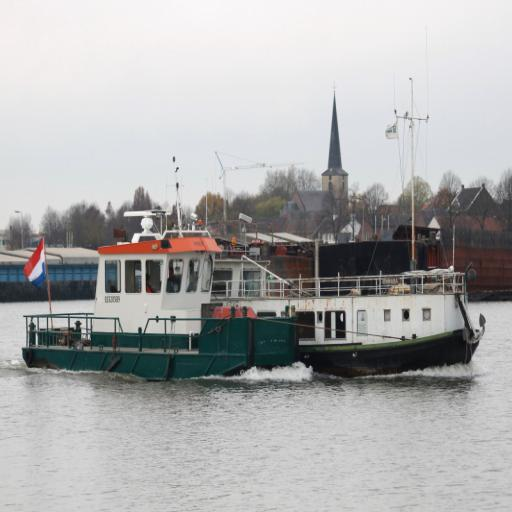tugboat: (18, 154, 306, 397)
